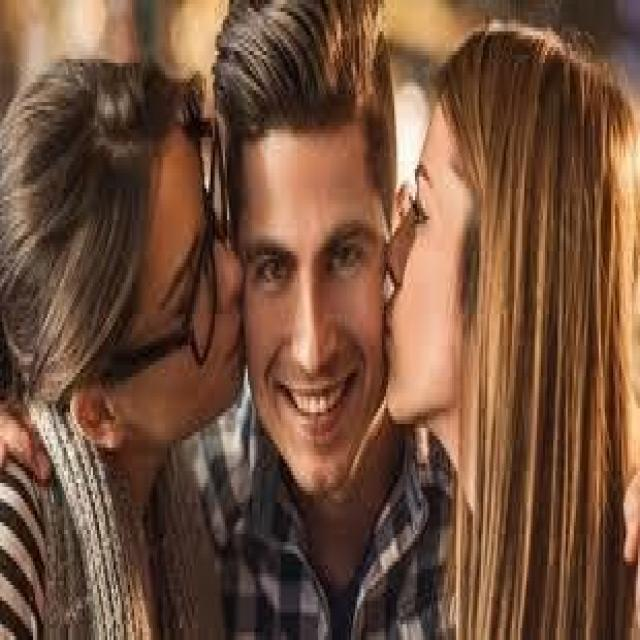person: (155, 0, 473, 636)
